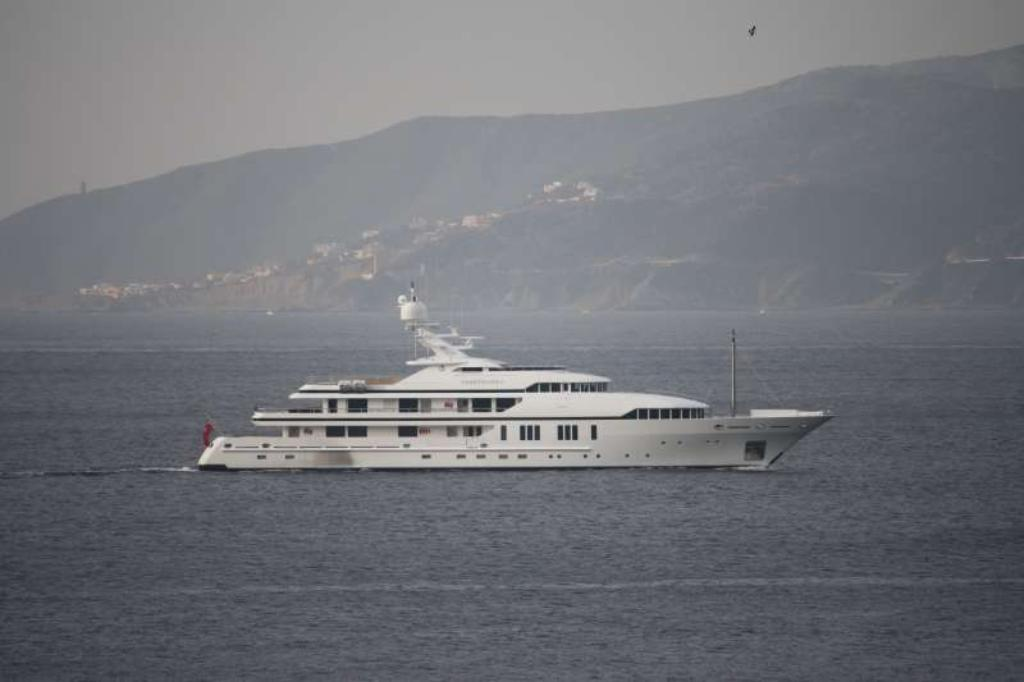PassengerShip: (194, 284, 838, 472)
